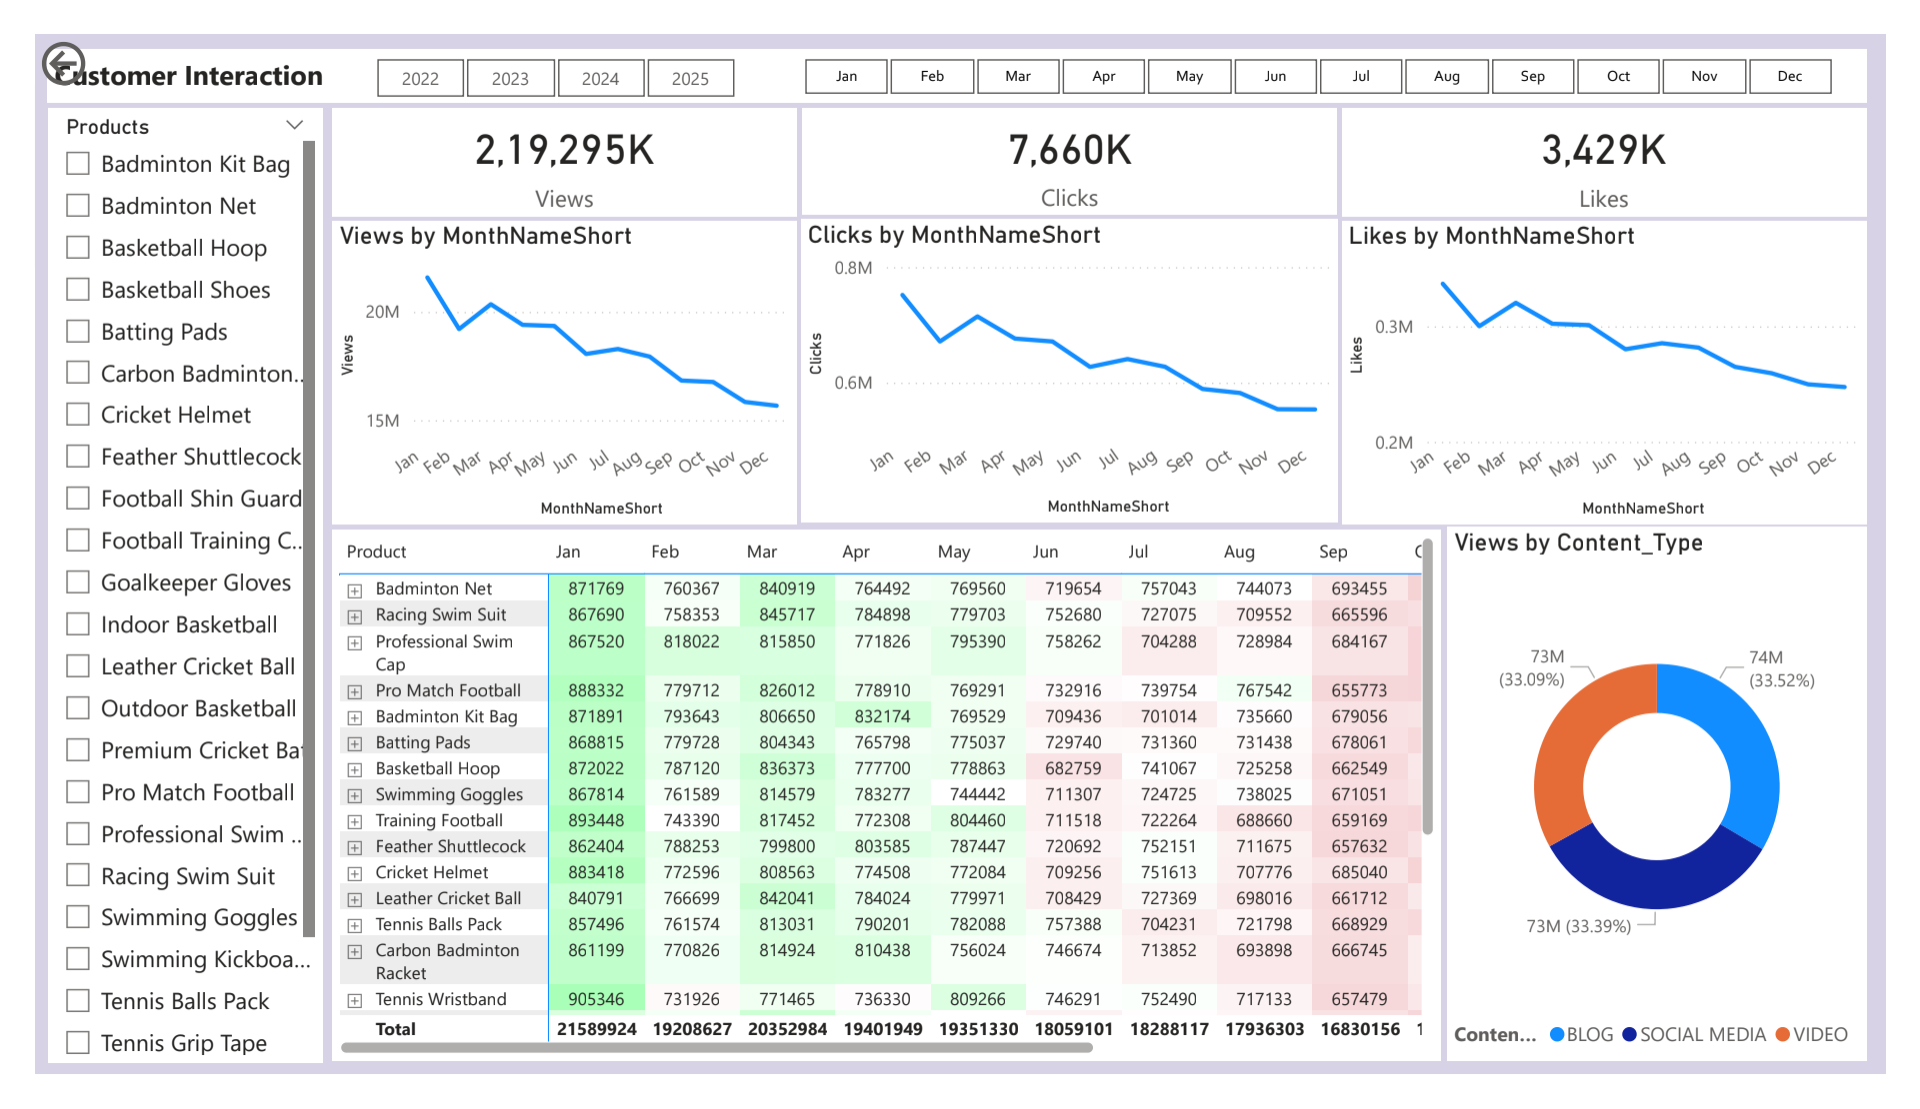

This screenshot's page, from the dashboard's own definition file:
{"tool":"powerbi","page":{"name":"Cust_Interaction ","canvas":[1280,720],"ordinal":1},"visuals":[{"type":"slicer","fields":{"Values":["Product_master_data.P_Name"]},"box":[8.6,51.4,190.8,660.3],"z":0},{"type":"textbox","box":[8.6,10,202.9,37.1],"z":1000},{"type":"slicer","fields":{"Values":["Calendar.Year"]},"box":[211.3,9.6,296.4,37],"z":2000},{"type":"slicer","fields":{"Values":["Calendar.MonthNameShort"]},"box":[507.1,10,760,37.1],"z":3000},{"type":"card","fields":{"Values":["Calculations.Views"]},"box":[205.7,51.4,321.4,74.3],"z":4000},{"type":"donutChart","fields":{"Category":["Customer_engagement.Content_Type"],"Y":["Calculations.Views"]},"box":[977.1,341.4,290,370],"z":5000},{"type":"actionButton","box":[0,0,100,40],"z":6000},{"type":"card","fields":{"Values":["Calculations.Likes"]},"box":[904.3,51.4,362.9,74.3],"z":6000},{"type":"card","fields":{"Values":["Calculations.Clicks"]},"box":[531.4,51.1,370,74.3],"z":7000,"group":"g1"},{"type":"lineChart","fields":{"Y":["Calculations.Views"],"Category":["Calendar.MonthNameShort","Calendar.Date.Variation.Date Hierarchy.Year"]},"box":[205.7,128.6,321.4,210],"z":7002},{"type":"lineChart","fields":{"Y":["Calculations.Clicks"],"Category":["Calendar.MonthNameShort","Calendar.Date.Variation.Date Hierarchy.Year"]},"box":[530,128.2,371.4,210],"z":7003,"group":"g1"},{"type":"lineChart","fields":{"Y":["Calculations.Likes"],"Category":["Calendar.Date.Variation.Date Hierarchy.Year","Calendar.MonthNameShort"]},"box":[904.3,128.6,362.9,210],"z":7004},{"type":"group","id":"g1","title":"Group 1","box":[530,51.1,371.4,287.1],"z":7005},{"type":"pivotTable","fields":{"Rows":["Product_master_data.P_Name","Customer_engagement.Content_Type"],"Values":["Sum(Customer_engagement.Views)"],"Columns":["Calendar.MonthNameShort"]},"box":[205.7,342.9,767.1,368.6],"z":7006}]}

Visuals, with their boxes in screenshot pixels (x1, y1, x2, y2), scaled from the page's 1280x720 canvas onto the 1920x1109 screenshot:
slicer - Product_master_data.P_Name: 13 79 299 1096
textbox: 13 15 317 73
slicer - Calendar.Year: 317 15 762 72
slicer - Calendar.MonthNameShort: 761 15 1901 73
card - Calculations.Views: 309 79 791 194
donutChart - Customer_engagement.Content_Type x Calculations.Views: 1466 526 1901 1096
actionButton: 0 0 150 62
card - Calculations.Likes: 1356 79 1901 194
card - Calculations.Clicks: 797 79 1352 193
lineChart - Calculations.Views x Calendar.MonthNameShort: 309 198 791 522
lineChart - Calculations.Clicks x Calendar.MonthNameShort: 795 197 1352 521
lineChart - Calculations.Likes x Calendar.Date.Variation.Date Hierarchy.Year: 1356 198 1901 522
"Group 1" group: 795 79 1352 521
pivotTable - Product_master_data.P_Name x Customer_engagement.Content_Type: 309 528 1459 1096
